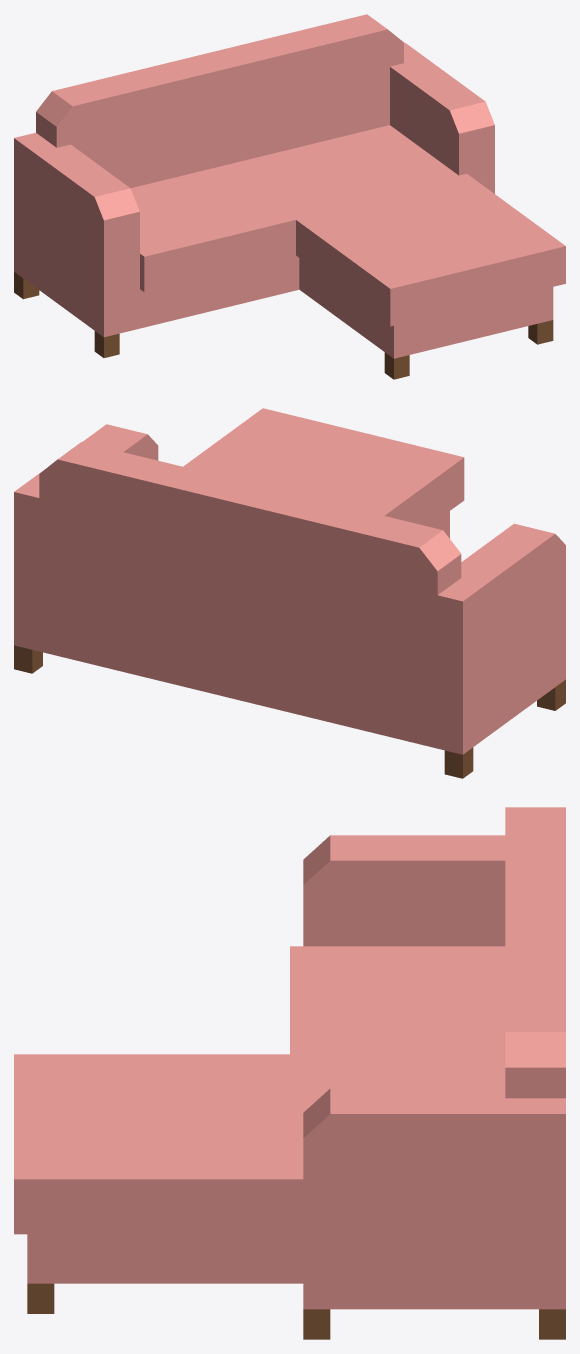
File: m_sofa_long.glb
The picture shows the model from 3 angles, top to bottom: view 1: azimuth 30°, elevation 25°; view 2: azimuth 150°, elevation 25°; view 3: azimuth 270°, elevation 25°; orthographic projection. The views are drawn at different scales.
Parts seen in each view (by area): view 1: loungeSofaLong(Clone); view 2: loungeSofaLong(Clone); view 3: loungeSofaLong(Clone).
Boxes of the visible parts, x1=… form: loungeSofaLong(Clone): x1=14, y1=14, x2=565, y2=379; loungeSofaLong(Clone): x1=14, y1=408, x2=565, y2=778; loungeSofaLong(Clone): x1=14, y1=807, x2=565, y2=1339.
Size of the model in its own units: 1.81 by 0.85 by 1.52.
